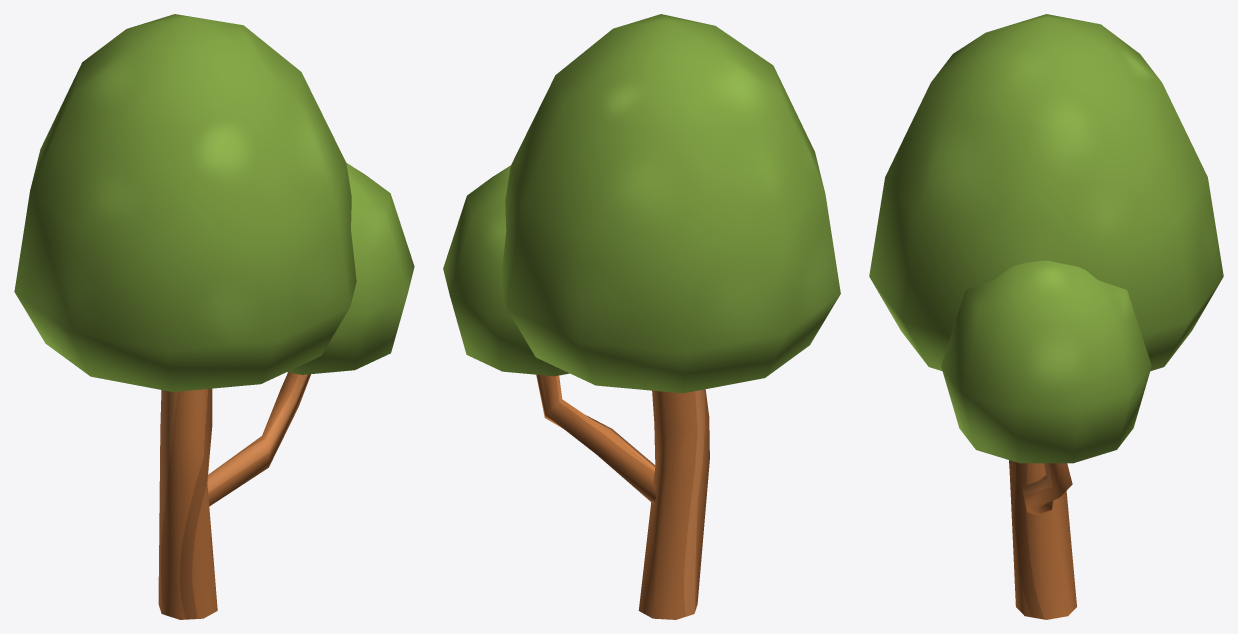
File: Arvore_4.fbx
3 views of the same model, side by side, from view 1: azimuth 30°, elevation 25°; view 2: azimuth 150°, elevation 25°; view 3: azimuth 270°, elevation 25° (orthographic).
Visible parts, largest first — view 1: Arvore_4; view 2: Arvore_4; view 3: Arvore_4.
Boxes of the visible parts, bbox=[...] form: Arvore_4: bbox=[14, 14, 414, 619]; Arvore_4: bbox=[443, 14, 840, 619]; Arvore_4: bbox=[869, 14, 1223, 619].
Bounding box in the file's own units: 128 × 203 × 111.
